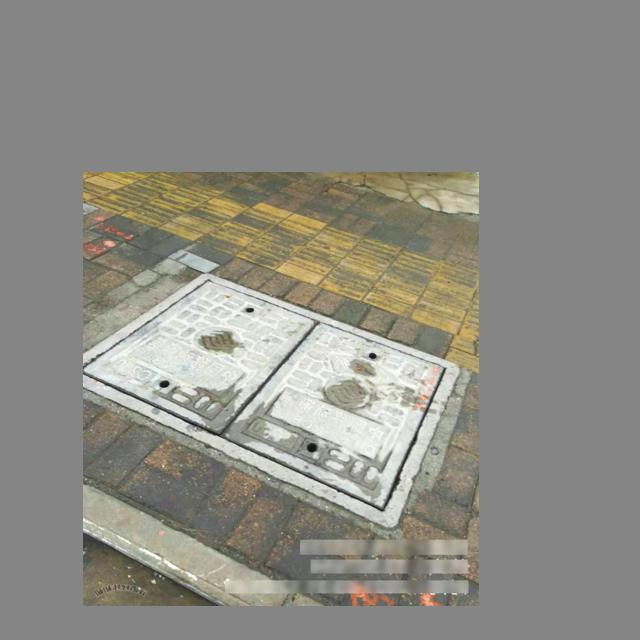good: (83, 273, 460, 527)
